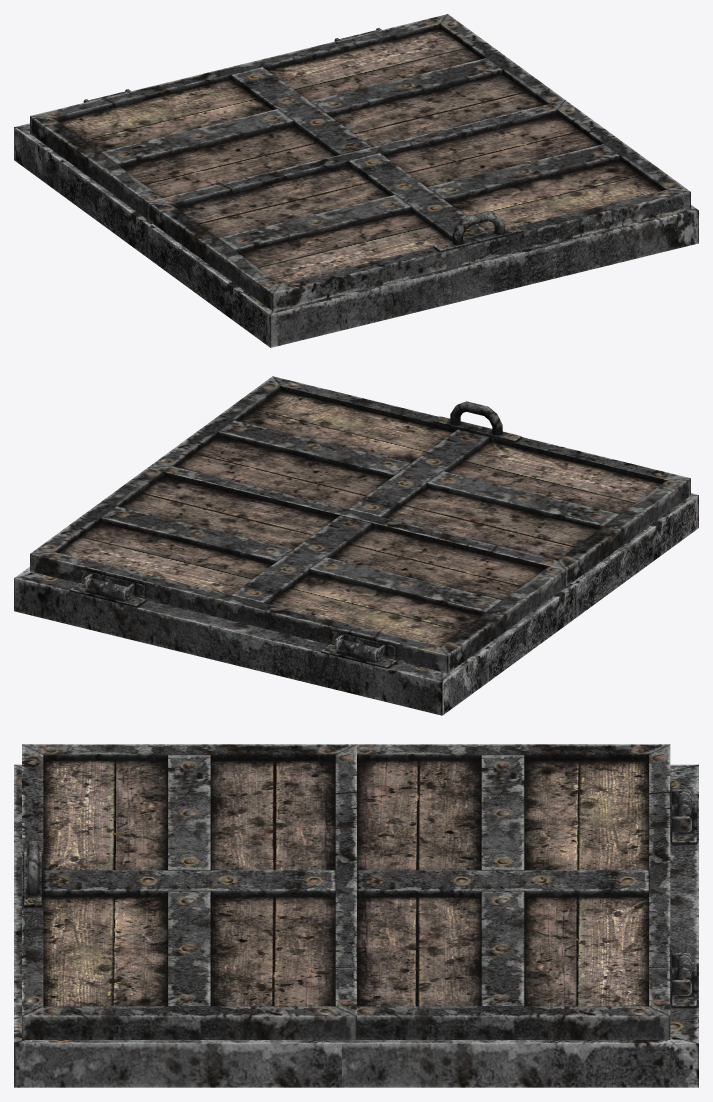
The model's file is hatch_large.dae.
3 views of the same model, one above another, from view 1: azimuth 30°, elevation 25°; view 2: azimuth 150°, elevation 25°; view 3: azimuth 270°, elevation 25° (orthographic). The views are drawn at different scales.
Parts seen in each view (by area): view 1: hatch_large_door, hatch_large_base; view 2: hatch_large_door, hatch_large_base; view 3: hatch_large_door, hatch_large_base.
Part boxes in pixels (bbox=[...]): hatch_large_door: bbox=[30, 14, 690, 310]; hatch_large_base: bbox=[14, 30, 698, 347]; hatch_large_door: bbox=[30, 376, 690, 673]; hatch_large_base: bbox=[14, 493, 698, 715]; hatch_large_door: bbox=[22, 744, 691, 1039]; hatch_large_base: bbox=[14, 764, 698, 1087].
Bounding box in the file's own units: 2.56 × 0.4331 × 2.66.
